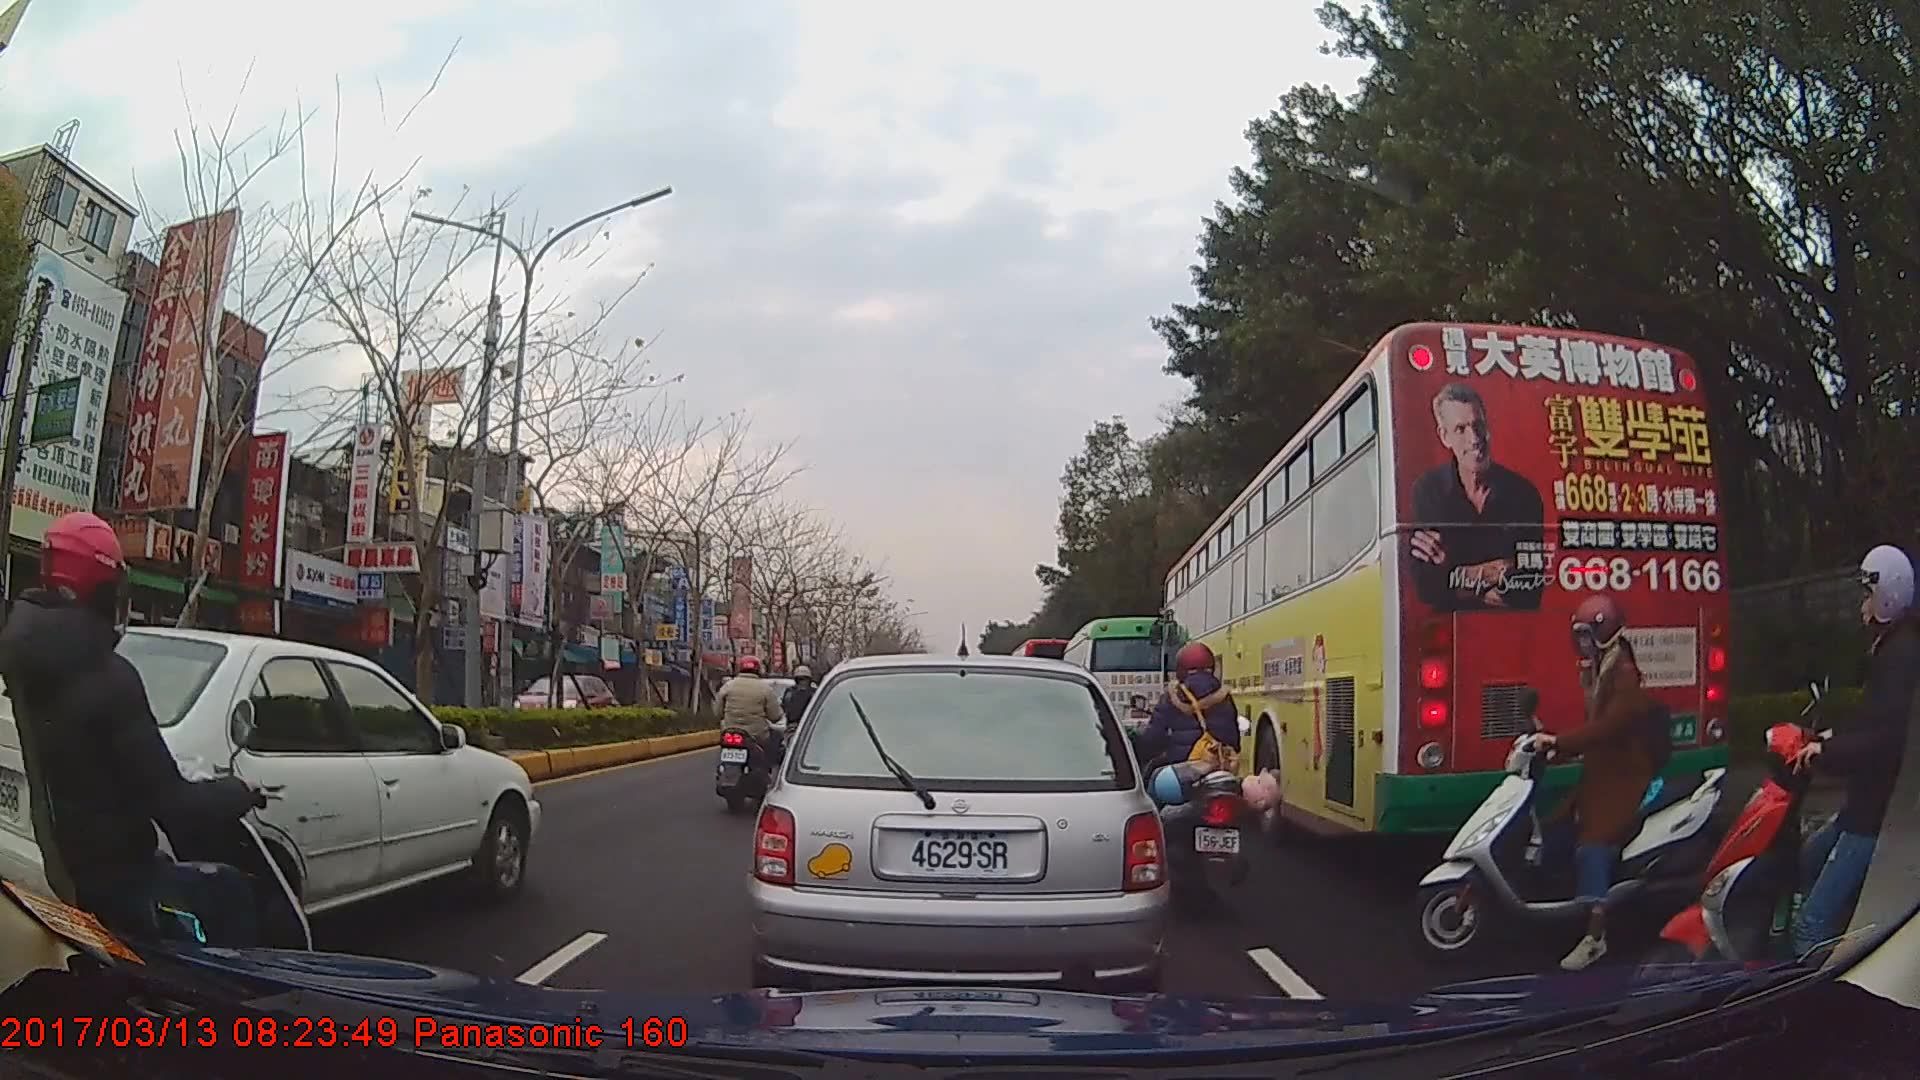rider: (1, 517, 313, 1031), (1405, 592, 1732, 969), (1662, 543, 1917, 1004), (1129, 645, 1281, 921), (712, 655, 780, 815), (781, 666, 828, 763)
vehicle: (1159, 319, 1731, 846), (0, 619, 540, 953), (744, 654, 1169, 996), (1060, 615, 1169, 757), (511, 671, 615, 735)
